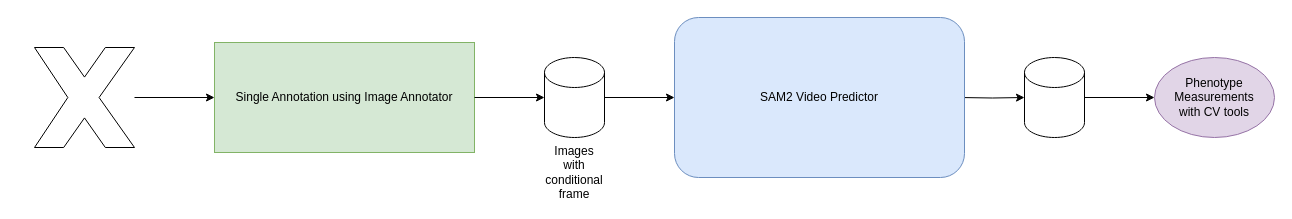
Image size: 1292x219. Some labels were removed from this diagram. Each missing label, with the centre of its shape:
Aerial Time-lapse Images: (84,97)
Multiclass Masks: (1054,97)
